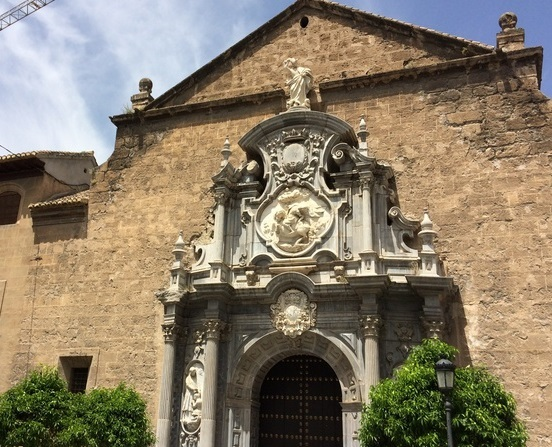arco-medio-punto: (243, 348, 347, 412)
